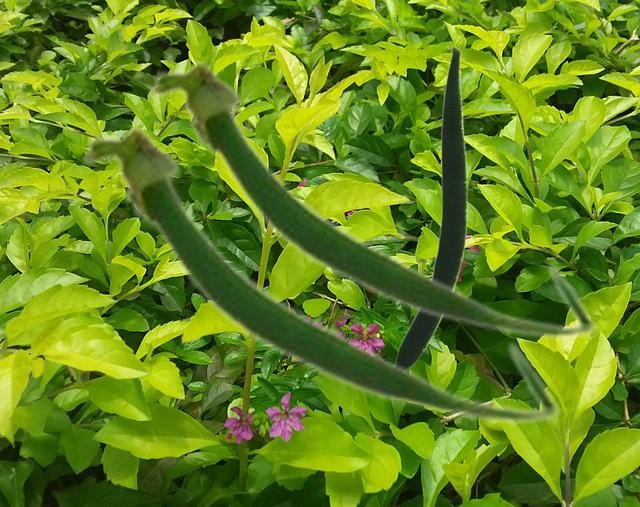french_bean: (78, 121, 562, 426), (146, 56, 598, 341), (396, 46, 466, 366)
